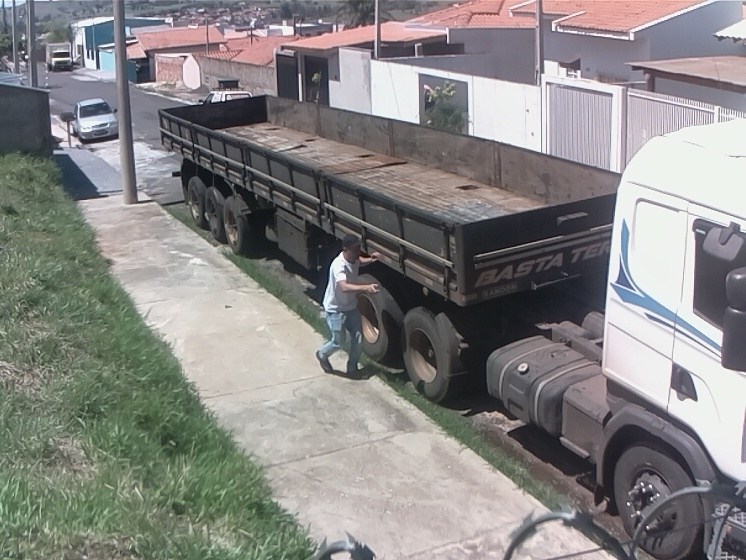person: (315, 231, 379, 382)
